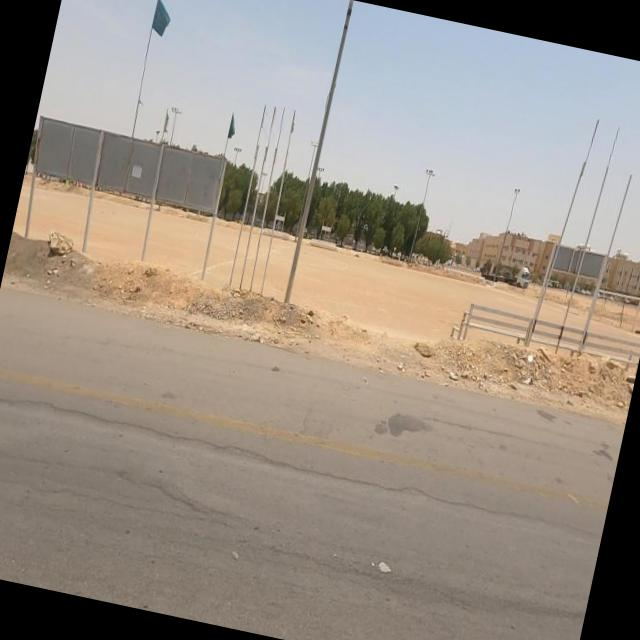debris: (420, 332, 486, 410), (502, 353, 555, 409), (506, 331, 550, 378)
